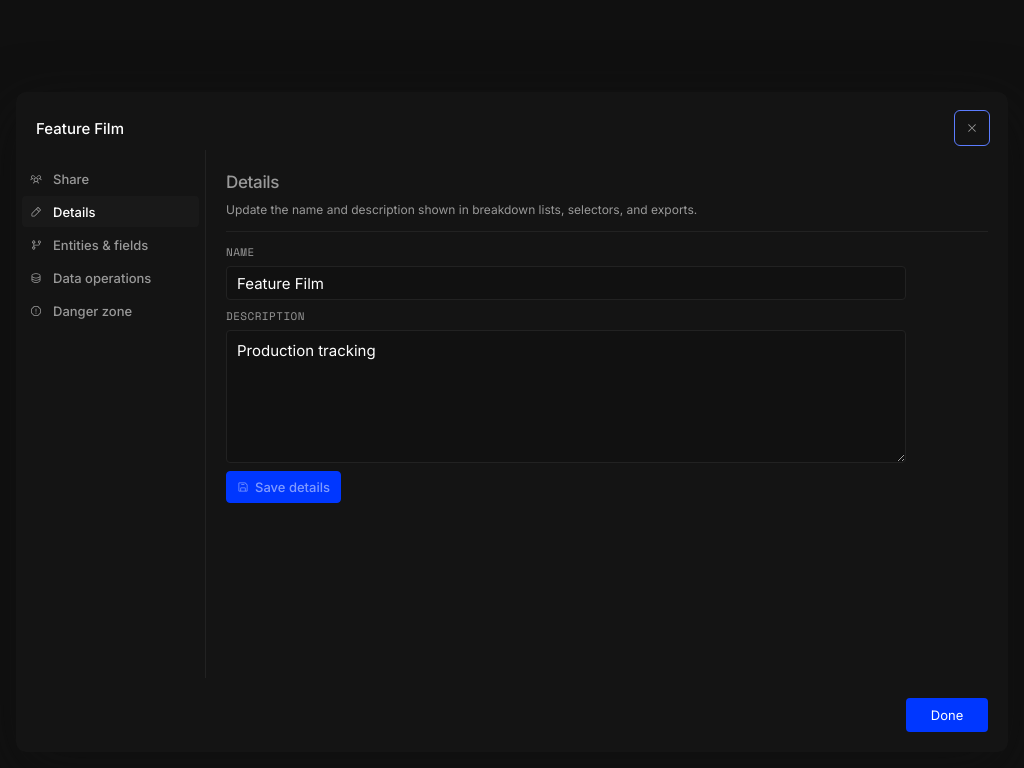
Scenario: ProjectManagementModal › composes every concern in one large sectioned modal
Check: the navigation bar named "Breakdown management sections" is shown, box [16,150,206,678]
Check: the heading "Details" is shown, box [226,172,279,192]
What coordinates should you click on to do the following:
click the button "Entities & fields"
I would click on:
 (110, 245)
Its box is [22,229,199,260].
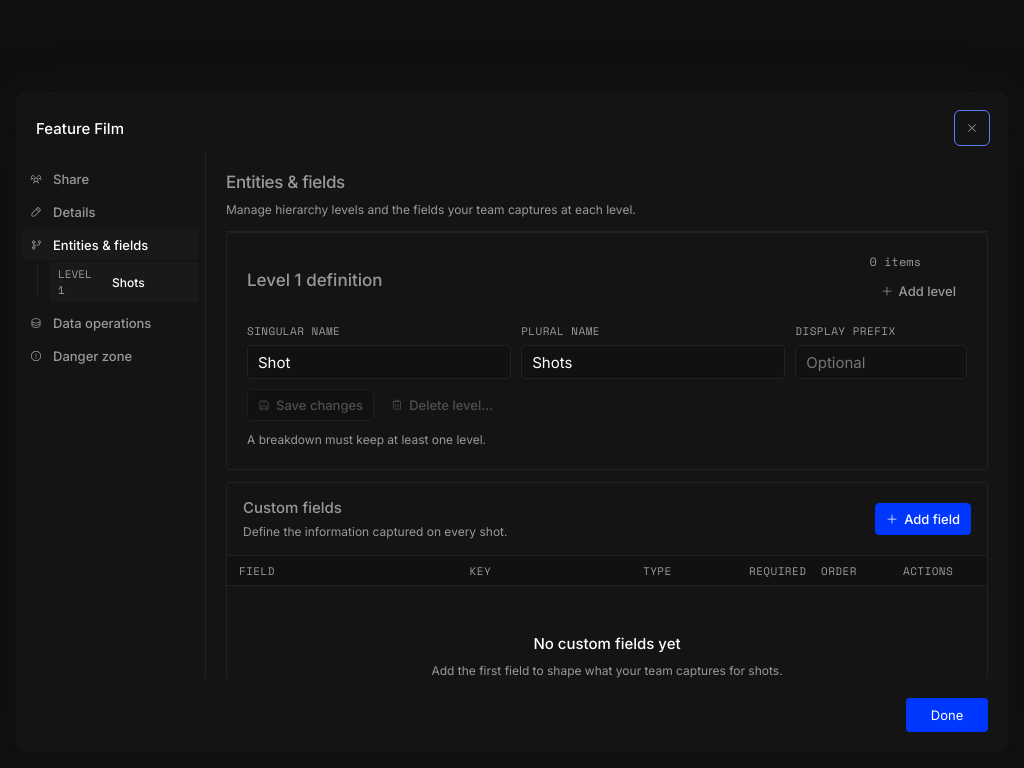
Check: the heading "Entities & fields" is shown, box [226,172,345,192]
Check: the text "No custom fields yet" is shown, box [533,633,681,655]
What coordinates should you click on to do the following:
click the button "Data operations"
I would click on:
 (110, 323)
Its box is [22,307,199,338].
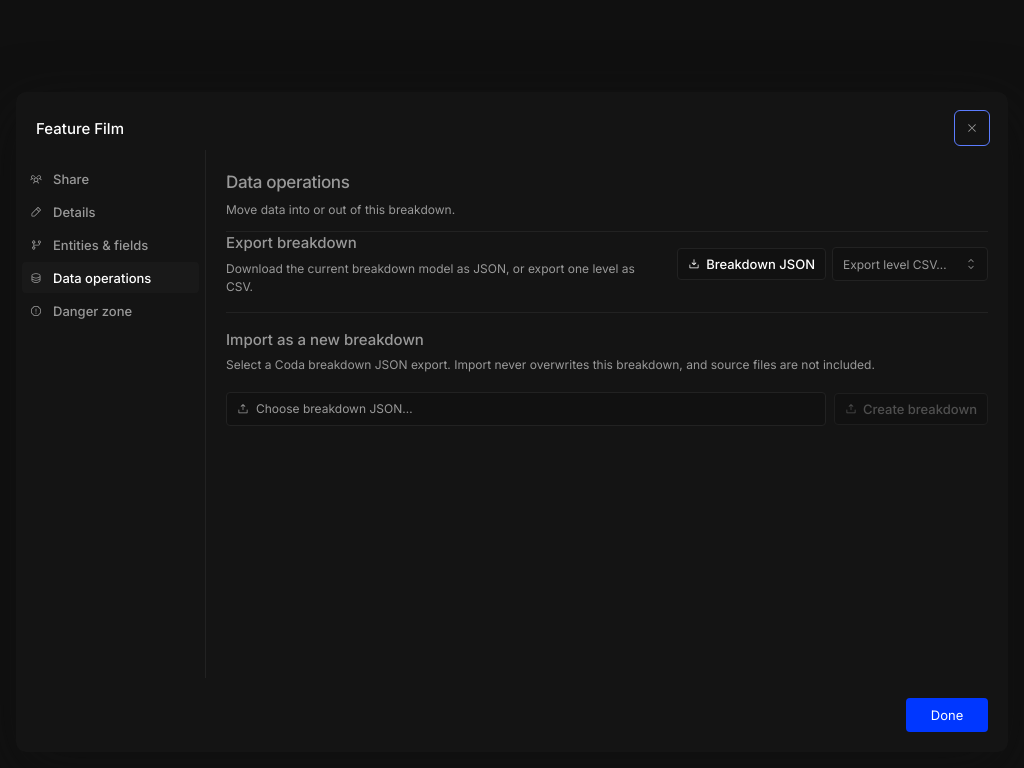
Check: the heading "Data operations" is shown, box [226,172,350,192]
What coordinates should you click on to do the following:
click the button "Danger zone"
I would click on:
 (110, 311)
Its box is [22,295,199,326].
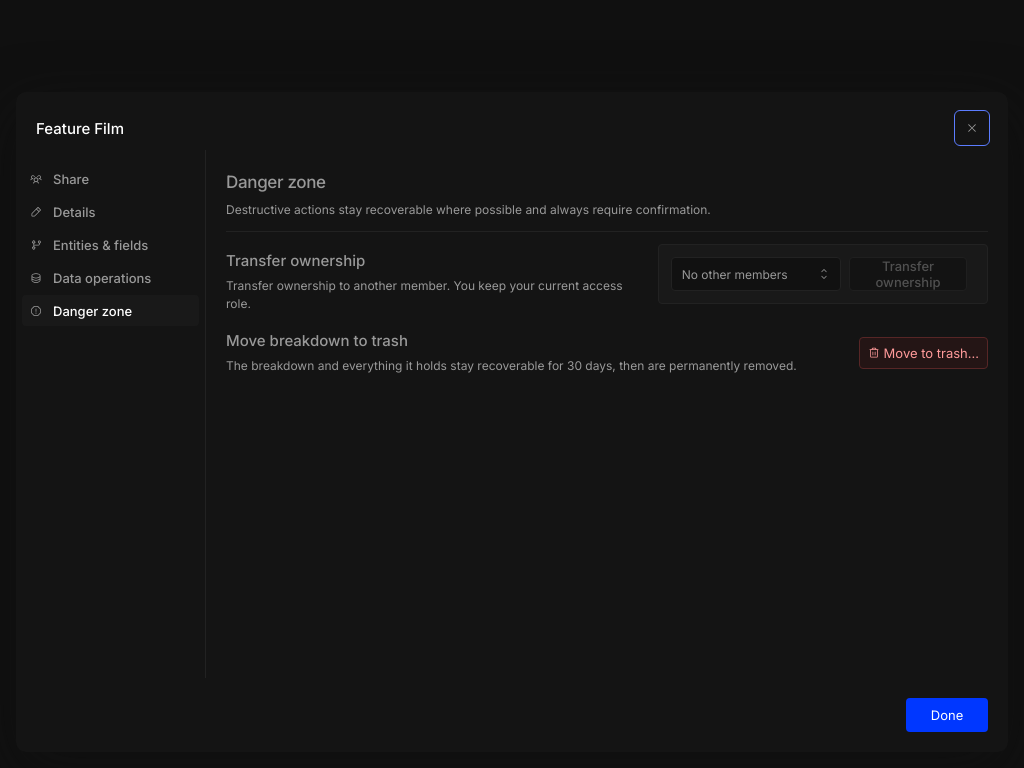
Check: the button "Move to trash…" is shown, box [859,336,988,368]
What coordinates should you click on to do the following:
click the button "Share"
I would click on:
 (110, 179)
Its box is [22,163,199,194].
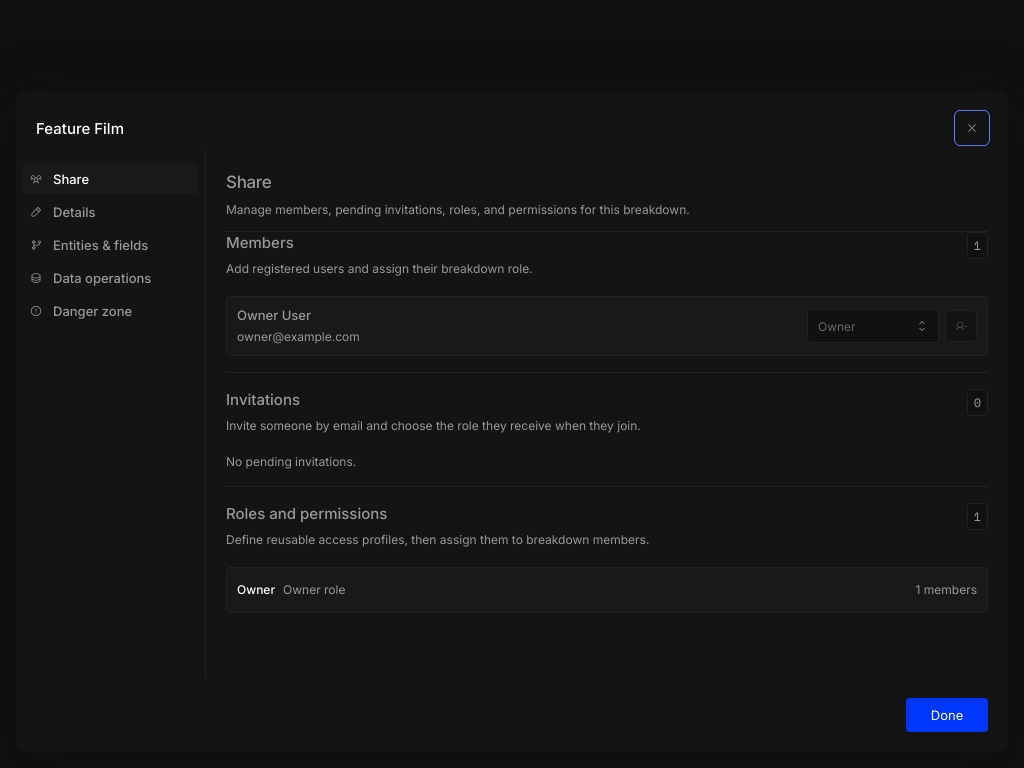
Check: the heading "Members" is shown, box [226,233,294,252]
Check: the heading "Invitations" is shown, box [226,390,300,409]
Check: the heading "Roles and permissions" is shown, box [226,504,387,523]
